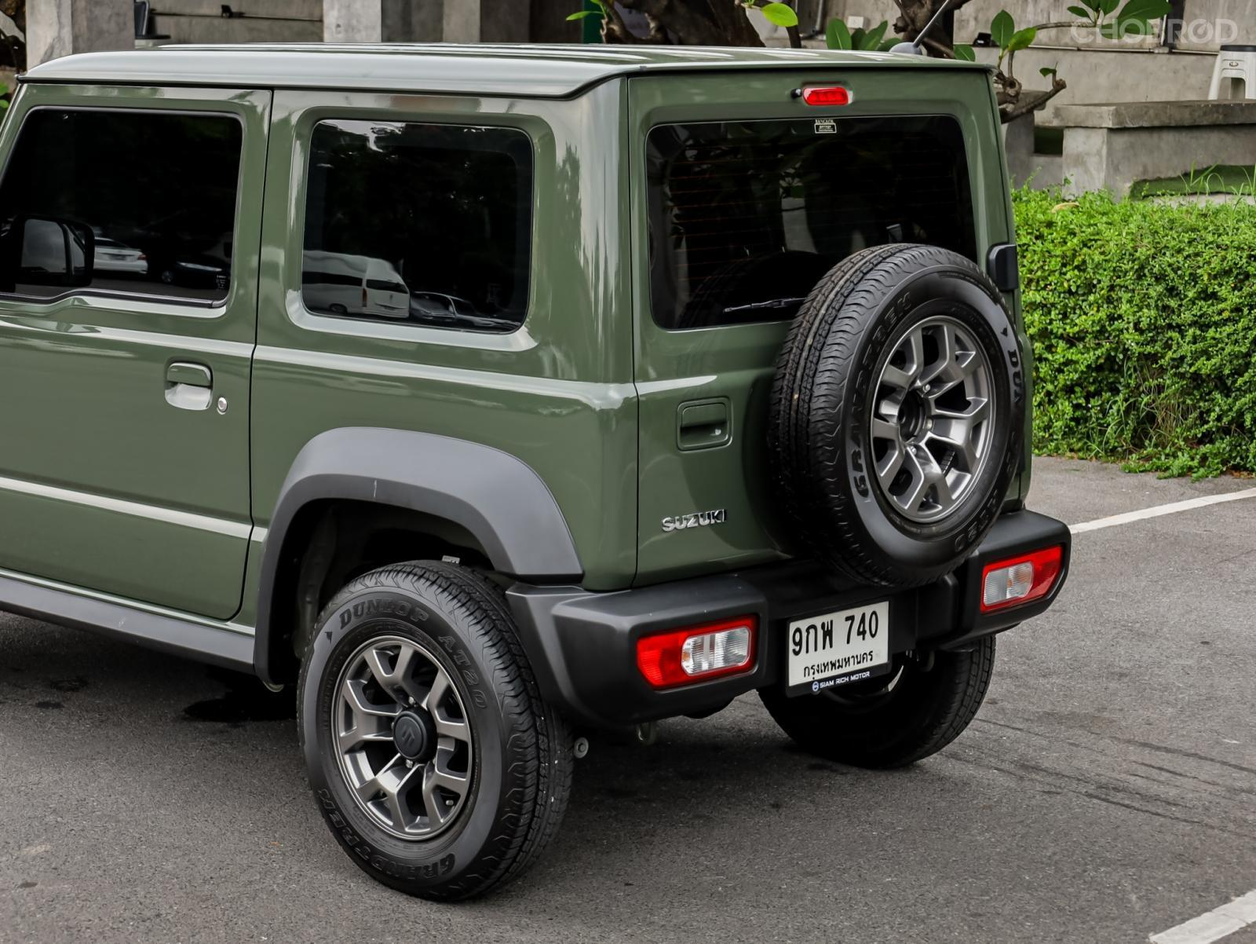license-plate: (772, 592, 895, 706)
